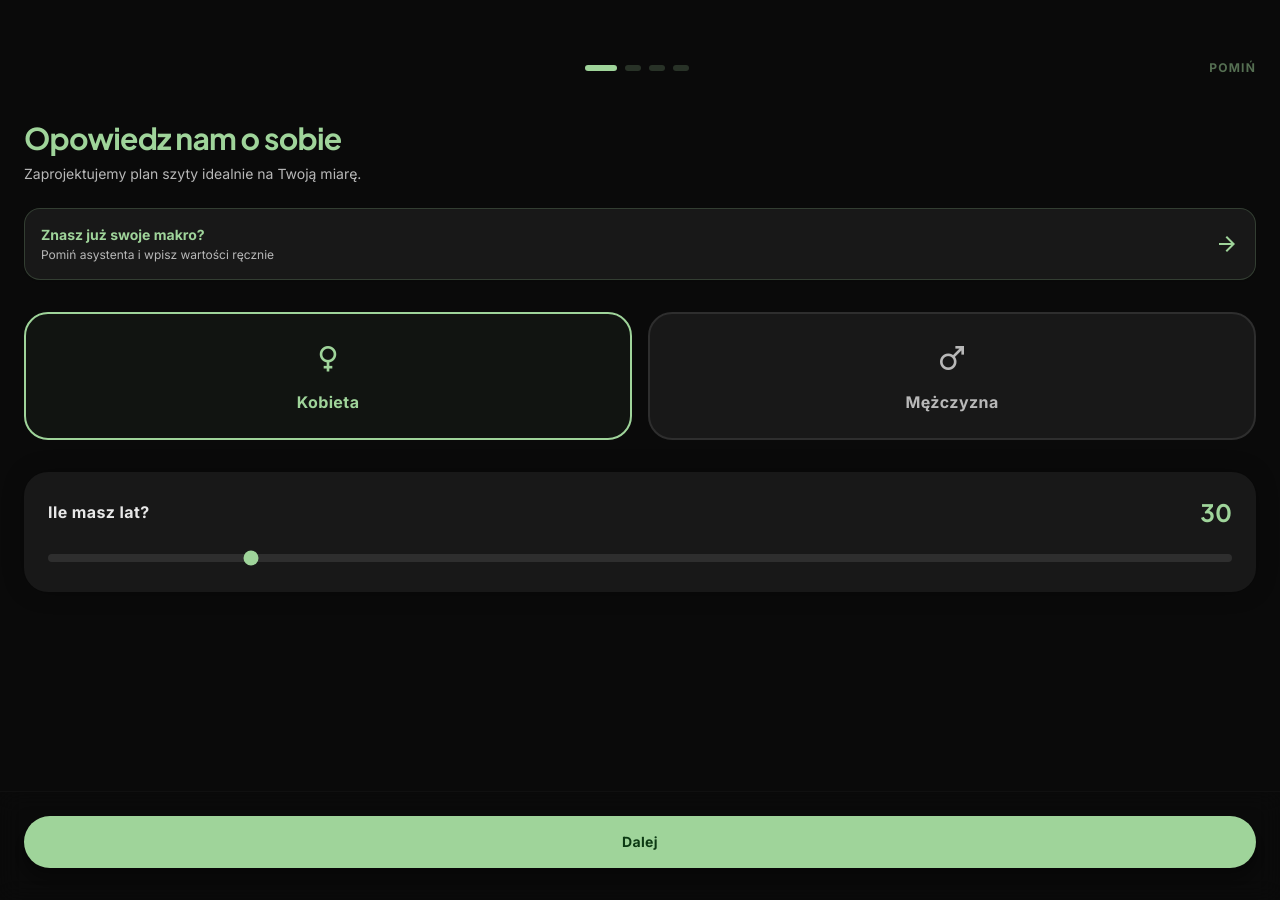
Test: Onboarding › goes back one step in the guided setup
Click the button "Dalej".
click(640, 842)  # box x1=24 y1=816 x2=1256 y2=868
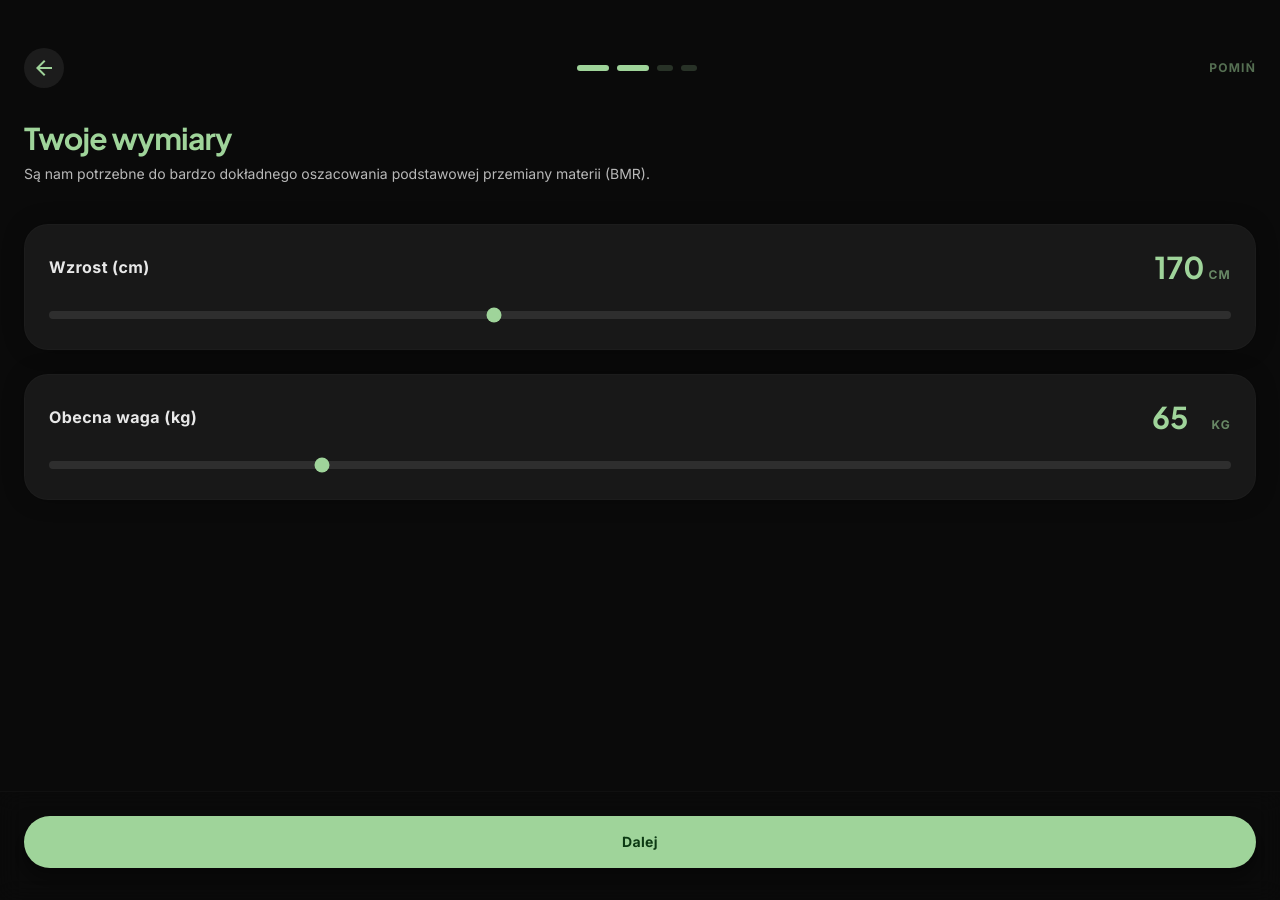
expect the heading "Twoje wymiary" is shown: met, box x1=24 y1=119 x2=232 y2=157
Click the button named "Wstecz".
click(44, 68)  # box x1=24 y1=48 x2=64 y2=88
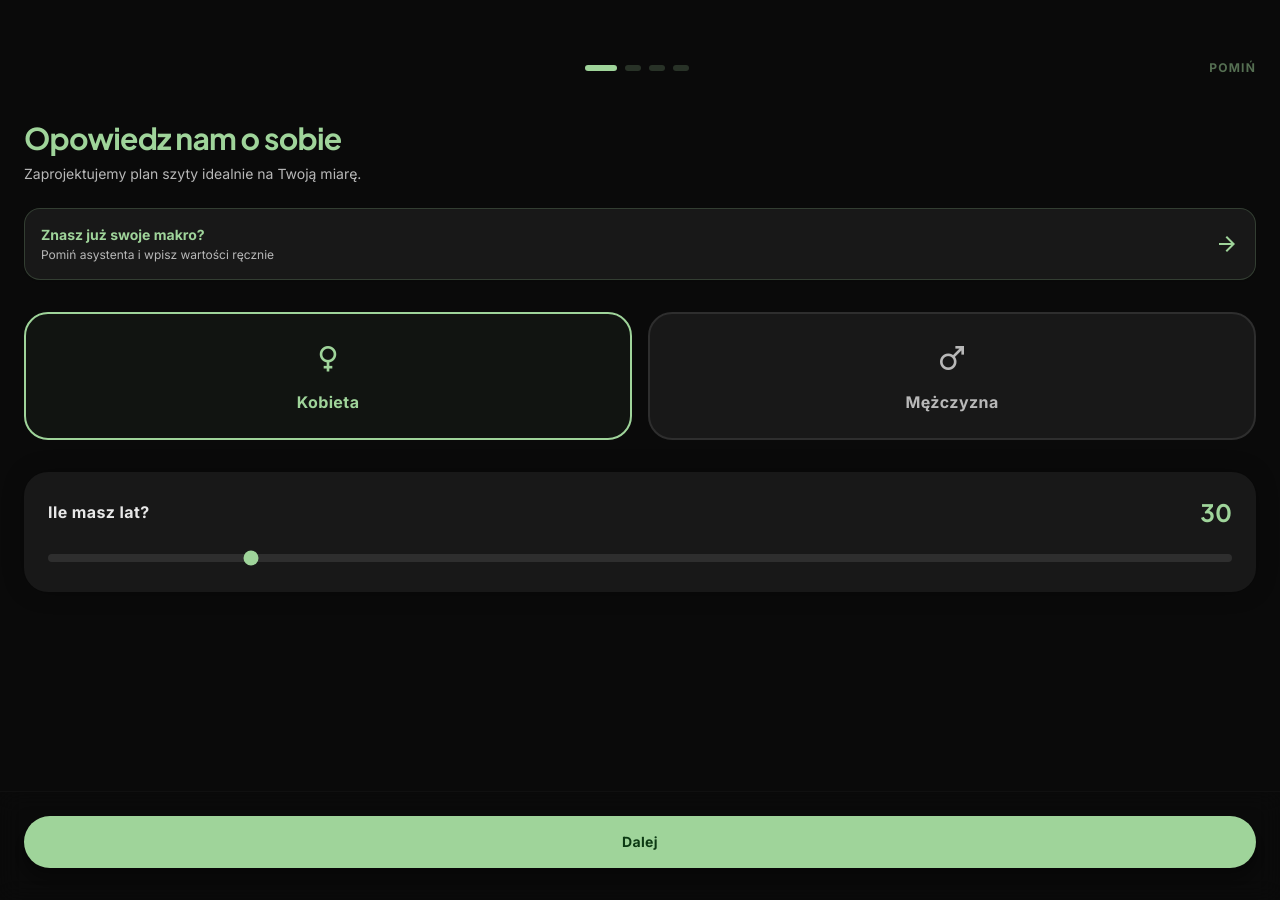
expect the heading "Opowiedz nam o sobie" is shown: met, box x1=24 y1=119 x2=341 y2=157
